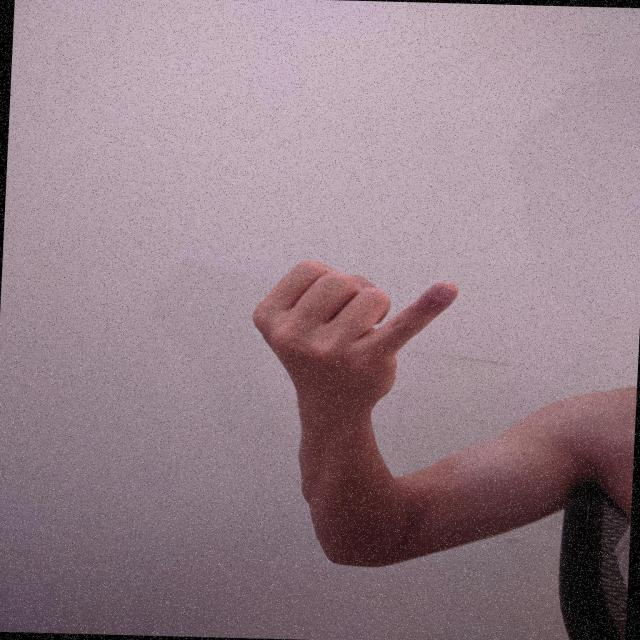J: (240, 251, 470, 419)
